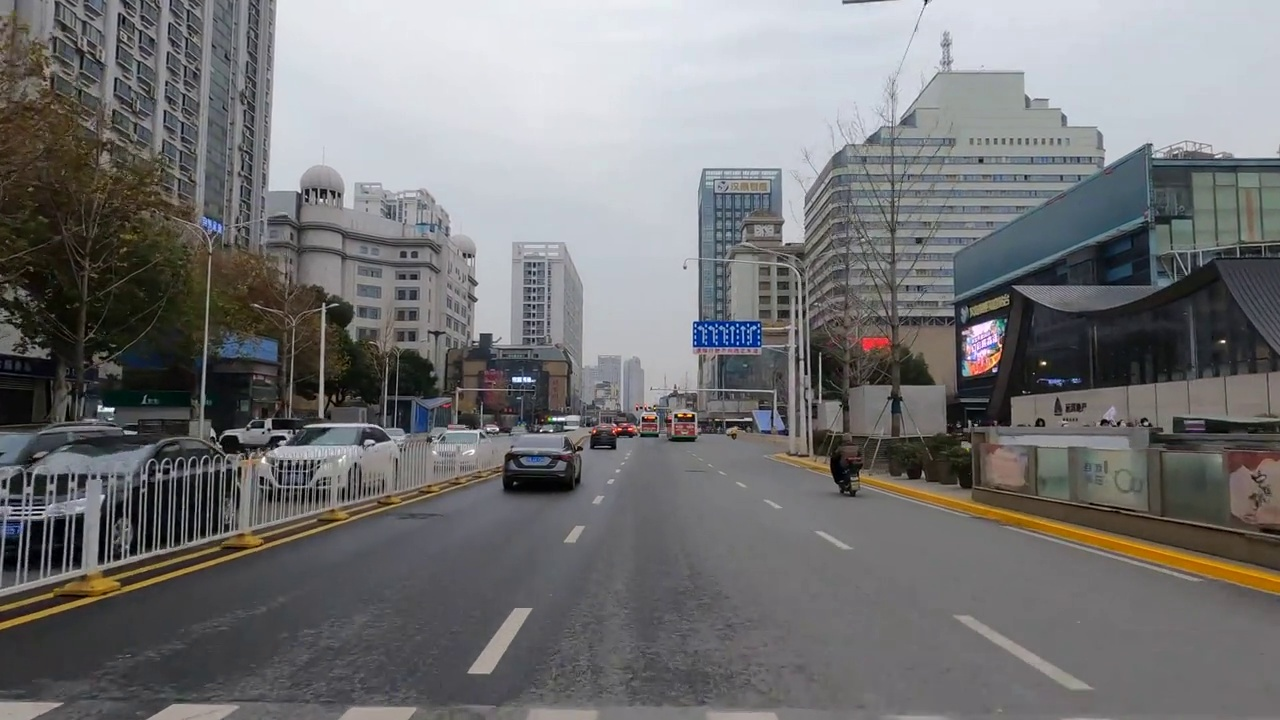lane: (956, 502, 1280, 596), (1, 549, 264, 634), (947, 613, 1096, 693), (461, 606, 535, 672), (818, 530, 857, 551), (561, 522, 583, 543)
